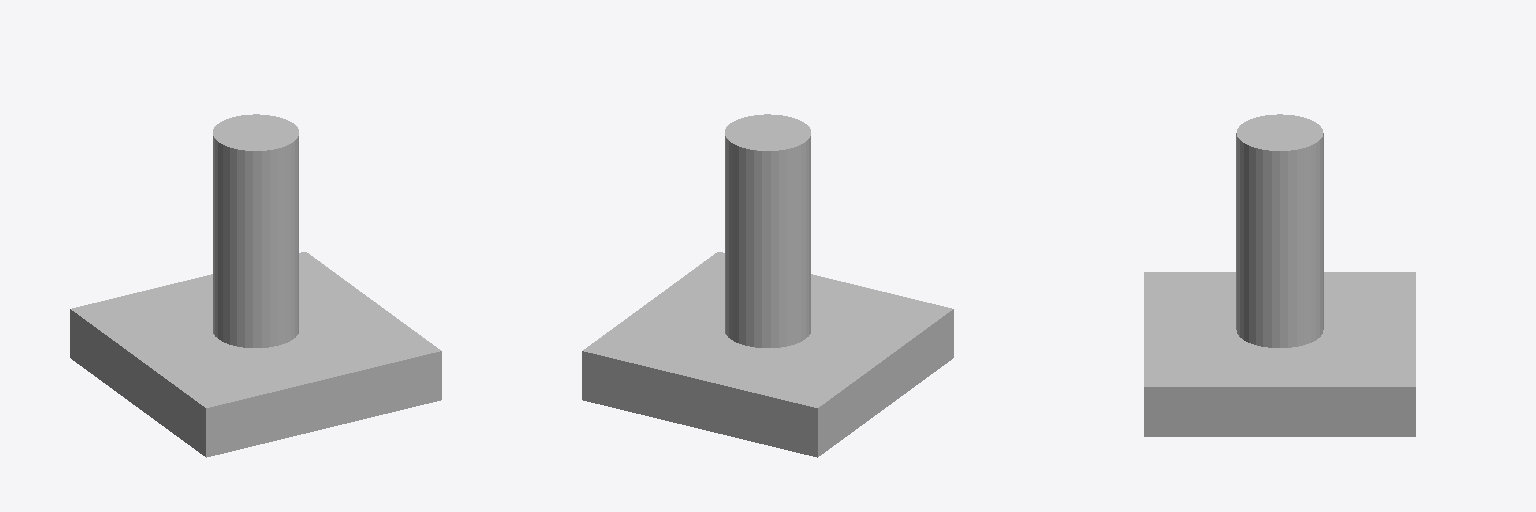
File: MiniSuspensionDownM.obj
3 views of the same model, side by side, from view 1: azimuth 30°, elevation 25°; view 2: azimuth 150°, elevation 25°; view 3: azimuth 270°, elevation 25° (orthographic).
Parts seen in each view (by area): view 1: Cube; view 2: Cube; view 3: Cube.
Part boxes in pixels (x1,y1,x2,y2): Cube: (70, 114, 441, 457); Cube: (582, 114, 953, 457); Cube: (1144, 114, 1415, 436).
Size of the model in its own units: 0.5 by 0.5 by 0.5.